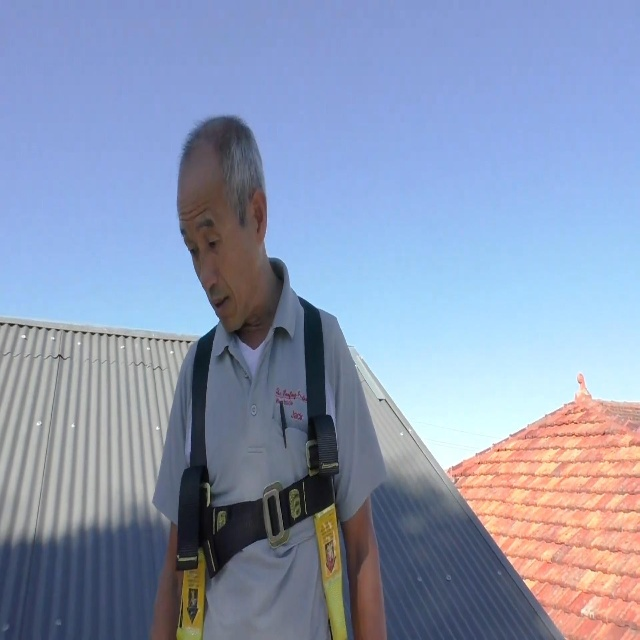Arnes_seguridad: (171, 306, 346, 640)
